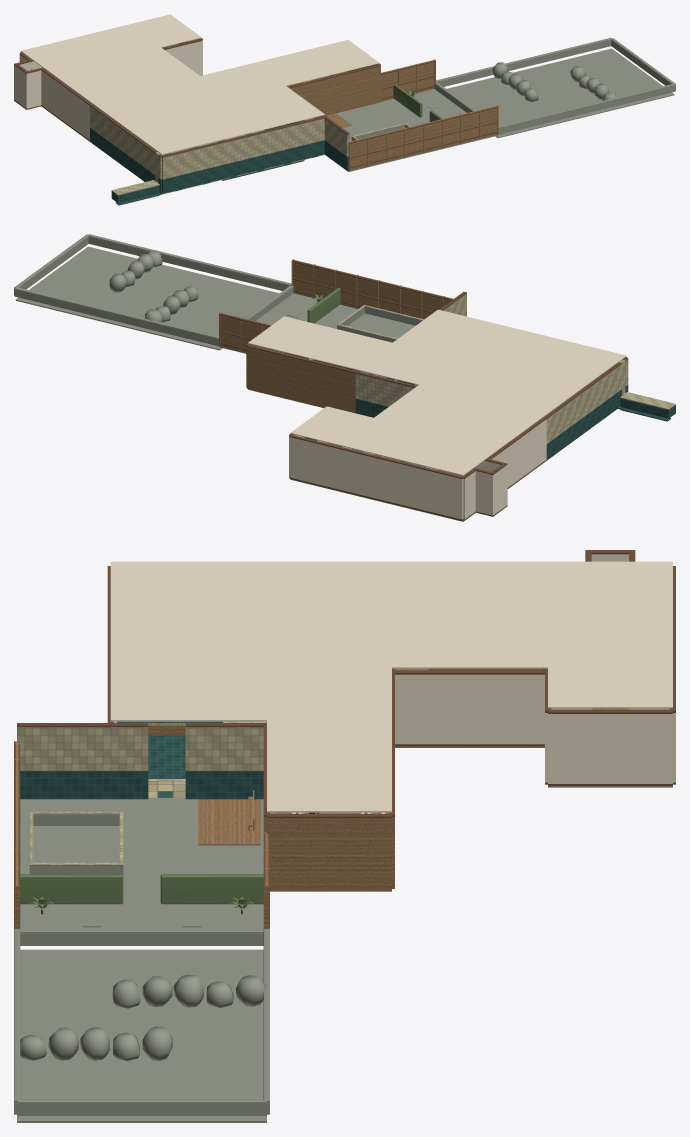
File: sento_environment__v01.glb
The picture shows the model from 3 angles, top to bottom: view 1: azimuth 30°, elevation 25°; view 2: azimuth 150°, elevation 25°; view 3: azimuth 270°, elevation 25°; orthographic projection. The views are drawn at different scales.
Parts seen in each view (by area): view 1: environment_ceiling__warm_plaster, environment_static__garden_stone, environment_upper__ceramic_cream, environment_upper__cedar, environment_static__ceramic_teal, environment_static__cedar, environment_upper__warm_plaster, environment_upper__dark_cedar, environment_static__warm_plaster, environment_static__dark_cedar, environment_static__sage_foliage, environment_ceiling__ceramic_cream (+1 smaller); view 2: environment_ceiling__warm_plaster, environment_static__garden_stone, environment_upper__warm_plaster, environment_upper__cedar, environment_static__cedar, environment_static__warm_plaster, environment_upper__ceramic_cream, environment_upper__dark_cedar, environment_static__ceramic_teal, environment_static__dark_cedar, environment_static__sage_foliage, environment_ceiling__ceramic_cream; view 3: environment_ceiling__warm_plaster, environment_static__garden_stone, environment_upper__warm_plaster, environment_upper__ceramic_cream, environment_static__ceramic_teal, environment_static__warm_plaster, environment_static__cedar, environment_upper__cedar, environment_static__sage_foliage, environment_upper__dark_cedar, environment_static__ceramic_cream.
Boxes of the visible parts, box(x1,y1,x2,y2) form: environment_ceiling__warm_plaster: box(21, 14, 379, 154); environment_static__garden_stone: box(327, 37, 675, 171); environment_upper__ceramic_cream: box(90, 106, 349, 179); environment_upper__cedar: box(31, 59, 498, 156); environment_static__ceramic_teal: box(90, 121, 348, 205); environment_static__cedar: box(47, 45, 498, 171); environment_upper__warm_plaster: box(14, 39, 202, 127); environment_upper__dark_cedar: box(14, 38, 497, 157); environment_static__warm_plaster: box(14, 44, 202, 140); environment_static__dark_cedar: box(14, 75, 497, 168); environment_static__sage_foliage: box(393, 84, 442, 121); environment_ceiling__ceramic_cream: box(111, 152, 160, 195); environment_ceiling__warm_plaster: box(248, 309, 626, 475); environment_static__garden_stone: box(14, 234, 422, 490); environment_upper__warm_plaster: box(289, 419, 546, 504); environment_upper__cedar: box(219, 259, 486, 470); environment_static__cedar: box(219, 276, 544, 521); environment_static__warm_plaster: box(289, 441, 546, 519); environment_upper__ceramic_cream: box(355, 293, 628, 443); environment_upper__dark_cedar: box(220, 261, 628, 478); environment_static__ceramic_teal: box(355, 377, 675, 460); environment_static__dark_cedar: box(220, 278, 546, 520); environment_static__sage_foliage: box(296, 287, 340, 323); environment_ceiling__ceramic_cream: box(619, 359, 675, 409); environment_ceiling__warm_plaster: box(110, 561, 672, 812); environment_static__garden_stone: box(14, 786, 672, 1122); environment_upper__warm_plaster: box(395, 554, 675, 757); environment_upper__ceramic_cream: box(17, 727, 263, 770); environment_static__ceramic_teal: box(20, 721, 263, 799); environment_static__warm_plaster: box(395, 718, 675, 783); environment_static__cedar: box(14, 668, 628, 929); environment_upper__cedar: box(14, 668, 544, 914); environment_static__sage_foliage: box(20, 874, 263, 910); environment_upper__dark_cedar: box(14, 550, 675, 888); environment_static__ceramic_cream: box(29, 721, 227, 865).
Bounding box in the file's own units: 39.3 × 3.04 × 21.2.
Materials: 17 (9 with a texture image).
